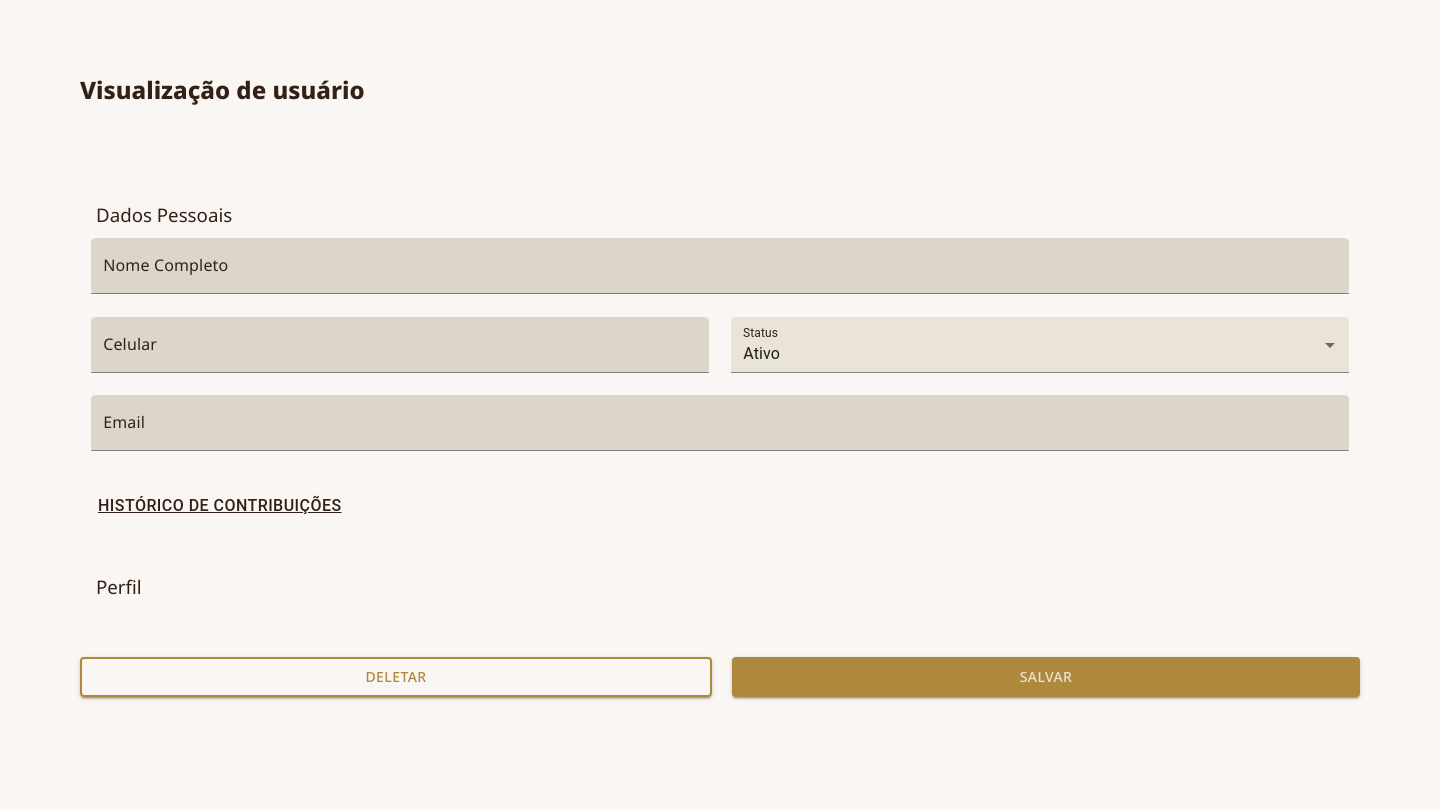
UserUpdatePage › validates email input
Type "invalid-email" into the field labelled "Email".
click(720, 423); type("invalid-email")  # box [91, 395, 1349, 451]
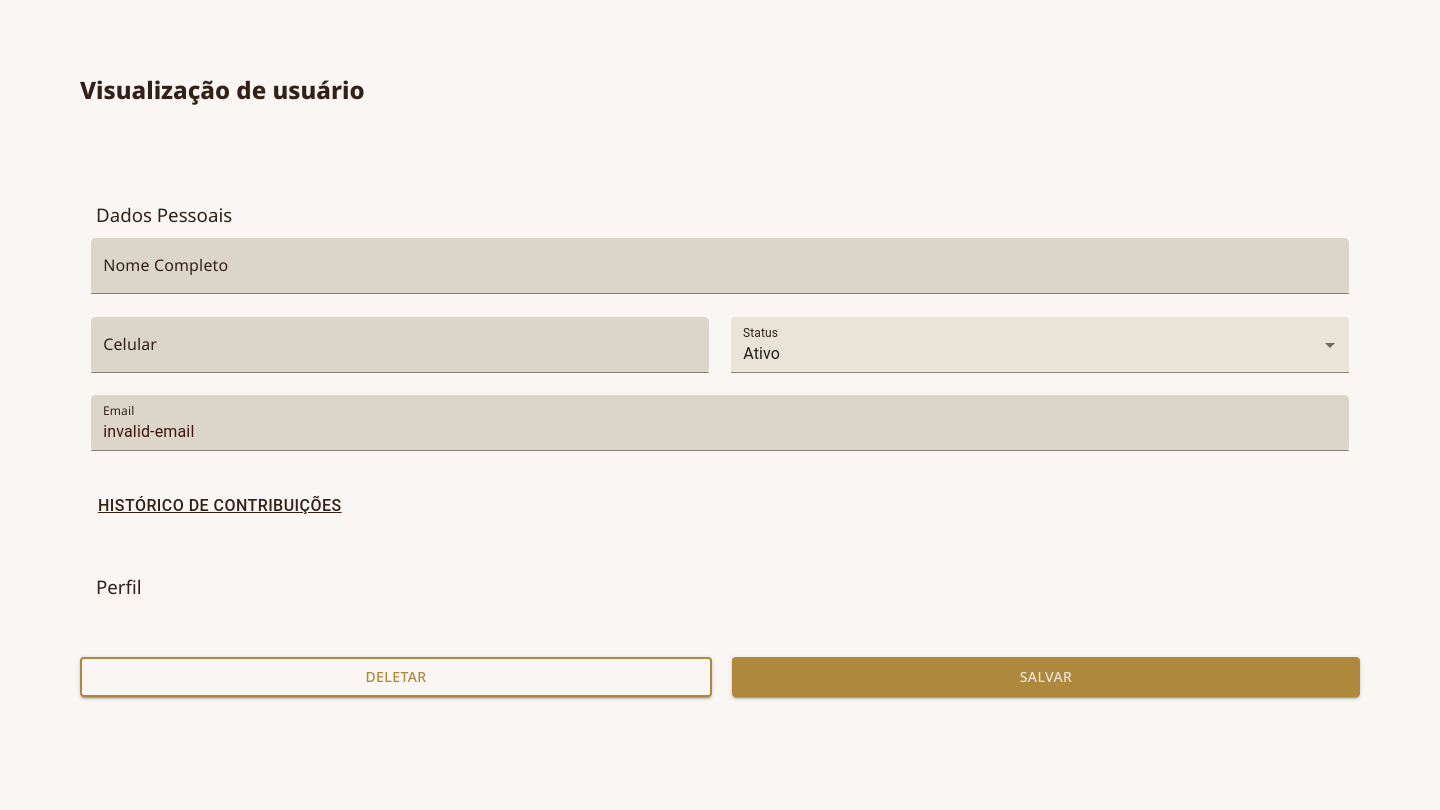
Click the button "Salvar".
click(1046, 677)  # box [732, 657, 1360, 697]
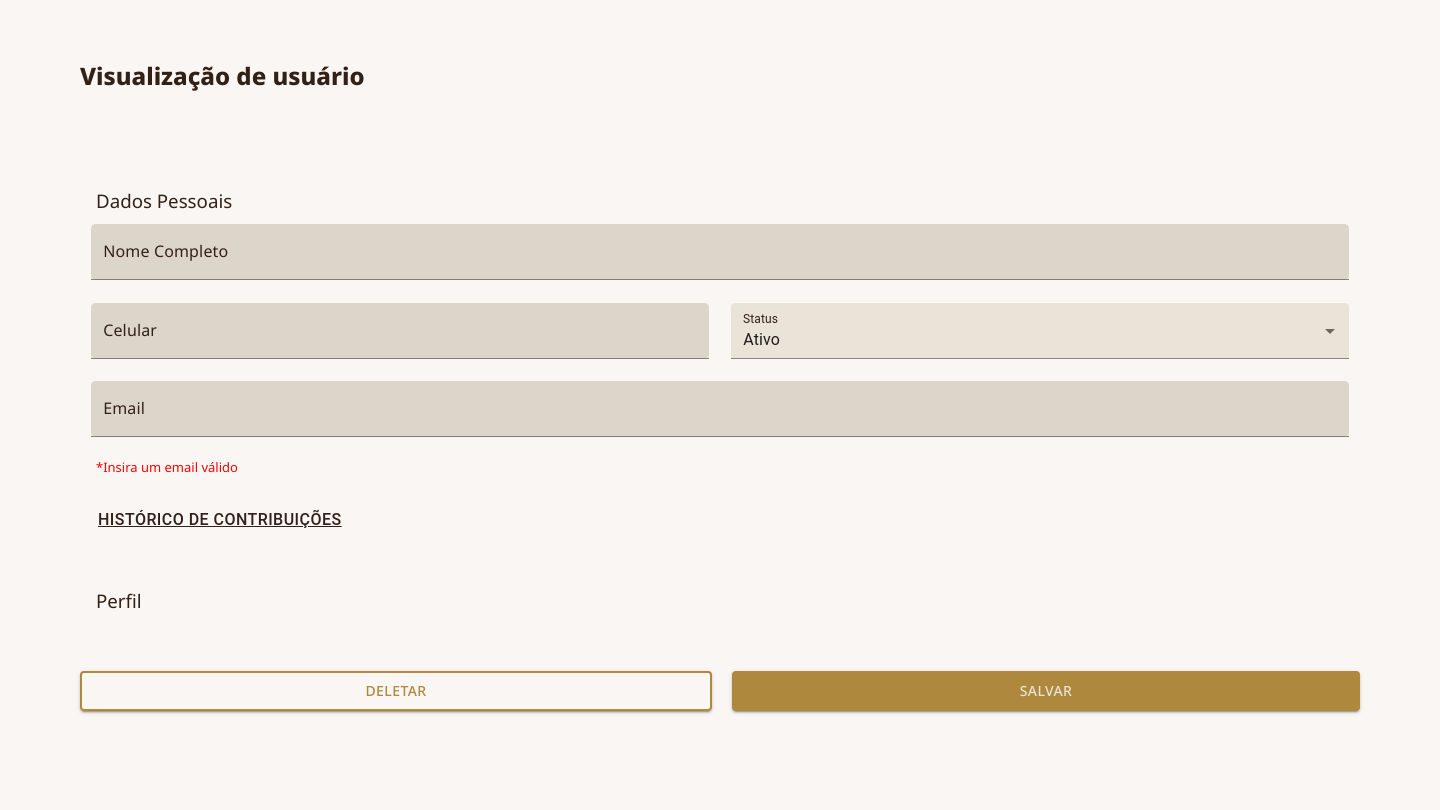
Expected: the text "*Insira um email válido" is shown, [96, 458, 238, 476]
